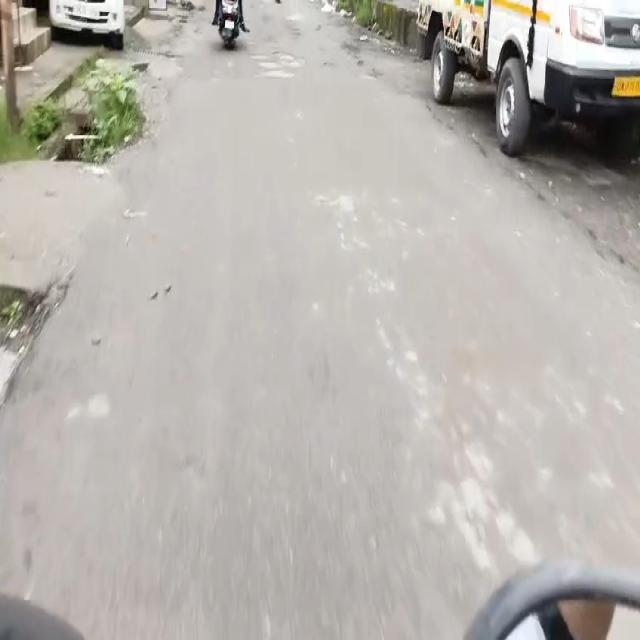road-pothole: (251, 46, 313, 86)
